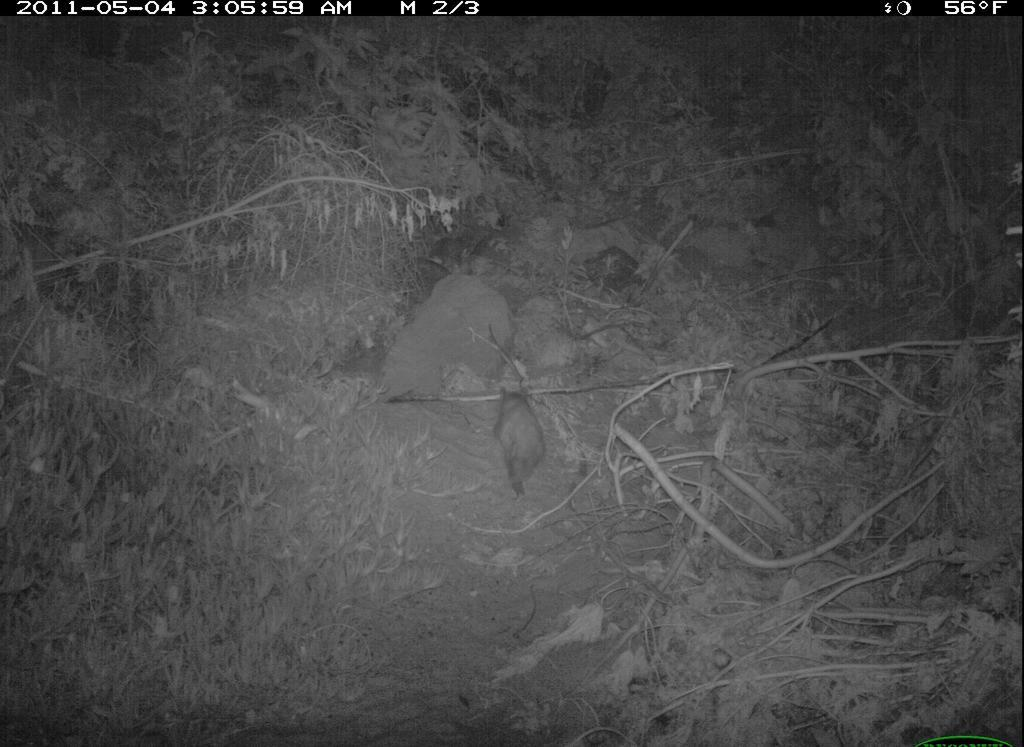opossum: (486, 382, 553, 496)
